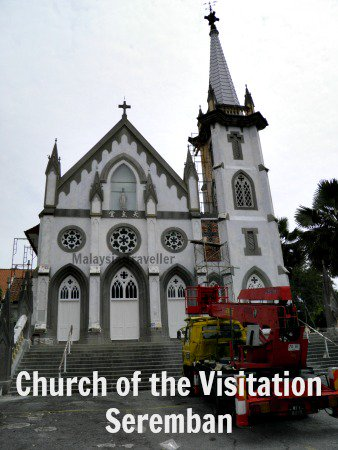Church: (22, 2, 285, 335)
